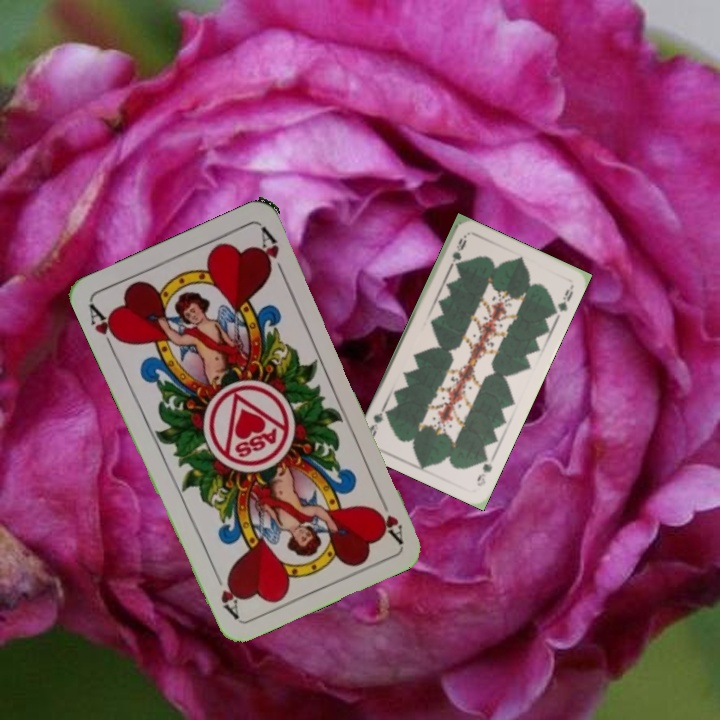G9: (445, 232, 469, 271), (473, 450, 495, 489)
HA: (85, 299, 126, 355), (373, 489, 406, 545)
